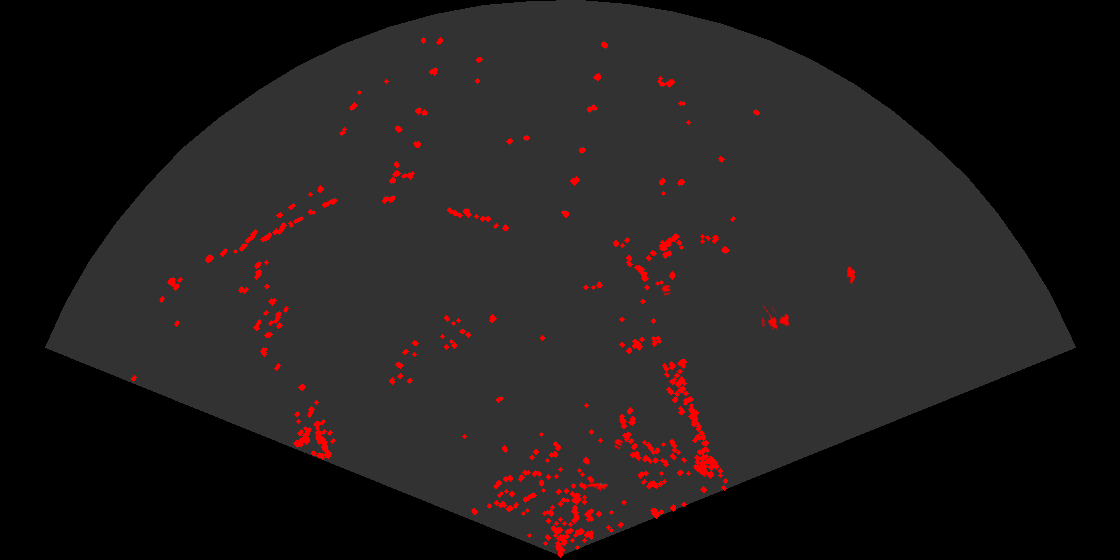AUV: (845, 265, 855, 285)
ball: (613, 437, 625, 451), (660, 284, 672, 297)
cage: (762, 306, 791, 332)
frogman: (585, 481, 608, 492)
